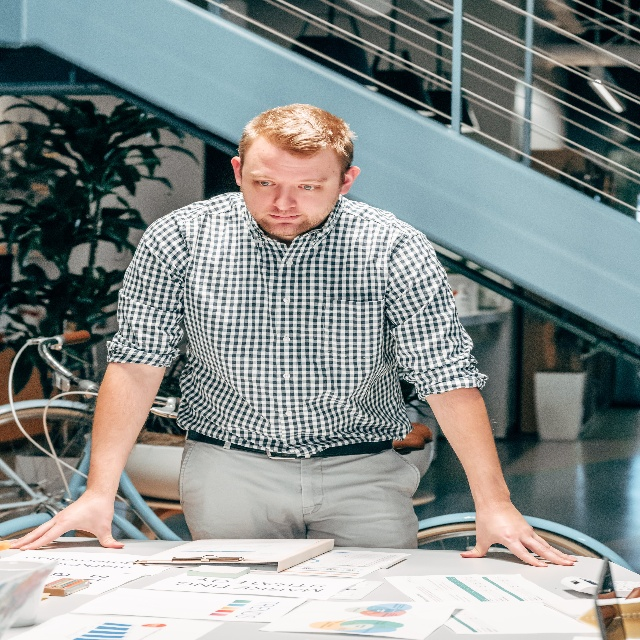Sin_guantes: (9, 487, 127, 560), (459, 502, 578, 570)
